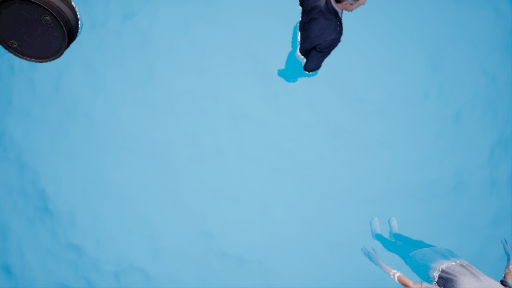person: (368, 219, 512, 286), (283, 1, 367, 93)
